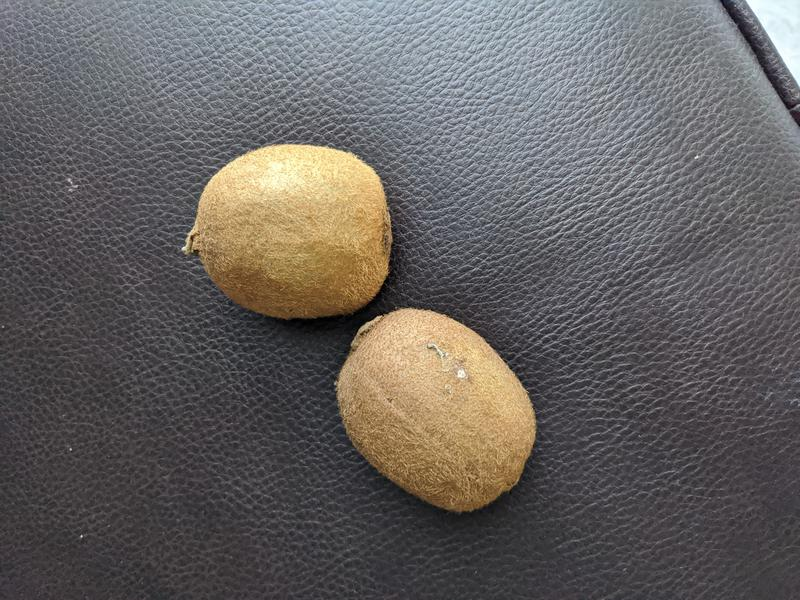kiwi: (335, 308, 536, 513), (193, 143, 392, 319)
